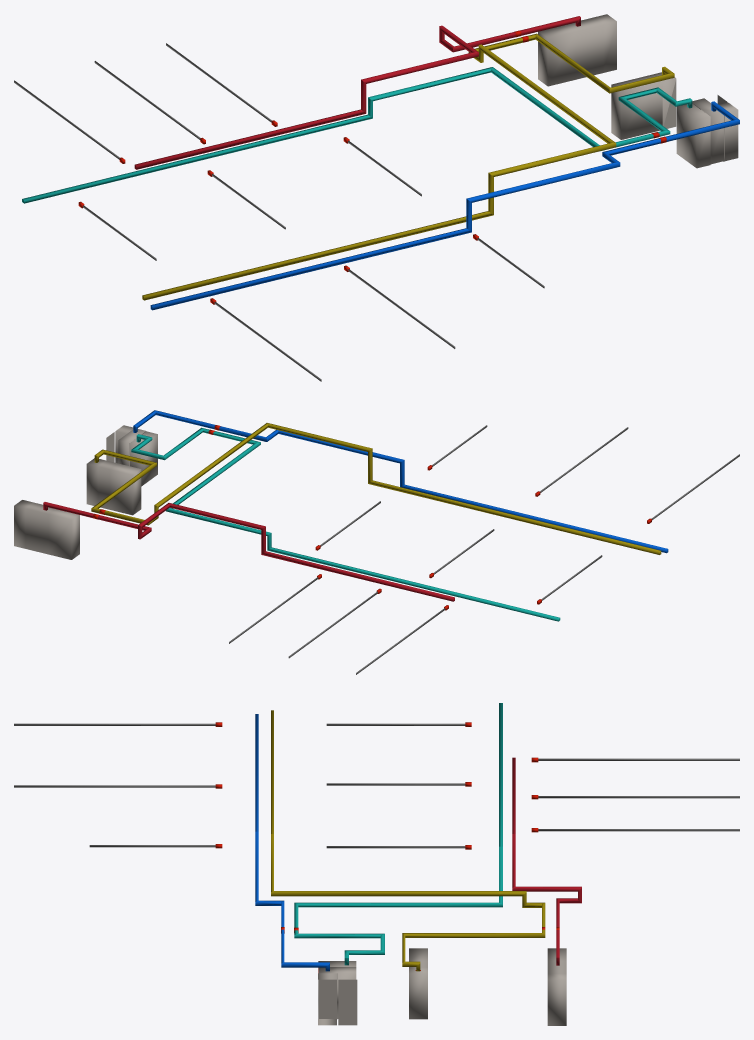
Rendered from BuswayLayoutWithAnimation.fbx.
3 views of the same model, one above another, from view 1: azimuth 30°, elevation 25°; view 2: azimuth 150°, elevation 25°; view 3: azimuth 270°, elevation 25° (orthographic). The views are drawn at different scales.
Parts seen in each view (by area): view 1: Import Symbol location <Not Shared> [475121]_[475058], Import Symbol location <Not Shared> [475121]_[475068], Import Symbol location <Not Shared> [475121]_[475067], Import Symbol location <Not Shared> [475121]_[475060], Import Symbol location <Not Shared> [475121].010, Import Symbol location <Not Shared> [475121].002, Import Symbol location <Not Shared> [475121].006, Import Symbol location <Not Shared> [475121].003, Import Symbol location <Not Shared> [475121].008, Import Symbol location <Not Shared> [475121].007, Import Symbol location <Not Shared> [475121].009, Import Symbol location <Not Shared> [475121].001 (+2 smaller); view 2: Import Symbol location <Not Shared> [475121]_[475058], Import Symbol location <Not Shared> [475121]_[475068], Import Symbol location <Not Shared> [475121]_[475067], Import Symbol location <Not Shared> [475121]_[475060], Import Symbol location <Not Shared> [475121].010, Import Symbol location <Not Shared> [475121].006, Import Symbol location <Not Shared> [475121].002, Import Symbol location <Not Shared> [475121].005, Import Symbol location <Not Shared> [475121].007, Import Symbol location <Not Shared> [475121].008, Import Symbol location <Not Shared> [475121].009, Import Symbol location <Not Shared> [475121].004; view 3: Import Symbol location <Not Shared> [475121]_[475058], Import Symbol location <Not Shared> [475121]_[475068], Import Symbol location <Not Shared> [475121]_[475067], Import Symbol location <Not Shared> [475121]_[475060], Import Symbol location <Not Shared> [475121].003, Import Symbol location <Not Shared> [475121].007, Import Symbol location <Not Shared> [475121].005, Import Symbol location <Not Shared> [475121].013, Import Symbol location <Not Shared> [475121]_[475066], Import Symbol location <Not Shared> [475121]_[475065], Import Symbol location <Not Shared> [475121]_[475063], Import Symbol location <Not Shared> [475121]_[475062] (+1 smaller).
Boxes of the visible parts, x1=… form: Import Symbol location <Not Shared> [475121]_[475058]: x1=142, y1=33, x2=674, y2=300; Import Symbol location <Not Shared> [475121]_[475068]: x1=22, y1=67, x2=692, y2=203; Import Symbol location <Not Shared> [475121]_[475067]: x1=150, y1=101, x2=739, y2=310; Import Symbol location <Not Shared> [475121]_[475060]: x1=134, y1=16, x2=580, y2=169; Import Symbol location <Not Shared> [475121].010: x1=538, y1=25, x2=575, y2=86; Import Symbol location <Not Shared> [475121].002: x1=676, y1=104, x2=710, y2=168; Import Symbol location <Not Shared> [475121].006: x1=611, y1=78, x2=648, y2=139; Import Symbol location <Not Shared> [475121].003: x1=692, y1=98, x2=724, y2=164; Import Symbol location <Not Shared> [475121].008: x1=581, y1=17, x2=603, y2=75; Import Symbol location <Not Shared> [475121].007: x1=593, y1=14, x2=616, y2=72; Import Symbol location <Not Shared> [475121].009: x1=566, y1=22, x2=589, y2=79; Import Symbol location <Not Shared> [475121].001: x1=719, y1=102, x2=738, y2=161; Import Symbol location <Not Shared> [475121]_[475058]: x1=91, y1=423, x2=661, y2=554; Import Symbol location <Not Shared> [475121]_[475068]: x1=131, y1=427, x2=560, y2=621; Import Symbol location <Not Shared> [475121]_[475067]: x1=133, y1=410, x2=668, y2=553; Import Symbol location <Not Shared> [475121]_[475060]: x1=43, y1=502, x2=454, y2=601; Import Symbol location <Not Shared> [475121].010: x1=48, y1=509, x2=79, y2=559; Import Symbol location <Not Shared> [475121].006: x1=109, y1=463, x2=141, y2=515; Import Symbol location <Not Shared> [475121].002: x1=130, y1=431, x2=157, y2=486; Import Symbol location <Not Shared> [475121].005: x1=86, y1=458, x2=105, y2=505; Import Symbol location <Not Shared> [475121].007: x1=14, y1=500, x2=33, y2=548; Import Symbol location <Not Shared> [475121].008: x1=25, y1=502, x2=43, y2=551; Import Symbol location <Not Shared> [475121].009: x1=37, y1=507, x2=55, y2=554; Import Symbol location <Not Shared> [475121].004: x1=98, y1=460, x2=117, y2=509; Import Symbol location <Not Shared> [475121]_[475058]: x1=271, y1=710, x2=545, y2=971; Import Symbol location <Not Shared> [475121]_[475068]: x1=294, y1=703, x2=502, y2=965; Import Symbol location <Not Shared> [475121]_[475067]: x1=255, y1=714, x2=329, y2=971; Import Symbol location <Not Shared> [475121]_[475060]: x1=512, y1=757, x2=581, y2=965; Import Symbol location <Not Shared> [475121].003: x1=318, y1=967, x2=356, y2=1019; Import Symbol location <Not Shared> [475121].007: x1=547, y1=973, x2=566, y2=1025; Import Symbol location <Not Shared> [475121].005: x1=409, y1=967, x2=427, y2=1019; Import Symbol location <Not Shared> [475121].013: x1=338, y1=979, x2=357, y2=1025; Import Symbol location <Not Shared> [475121]_[475066]: x1=14, y1=785, x2=215, y2=787; Import Symbol location <Not Shared> [475121]_[475065]: x1=14, y1=723, x2=215, y2=725; Import Symbol location <Not Shared> [475121]_[475063]: x1=538, y1=758, x2=739, y2=760; Import Symbol location <Not Shared> [475121]_[475062]: x1=538, y1=829, x2=739, y2=831.
Size of the model in its own units: 119 by 12.79 by 128.
